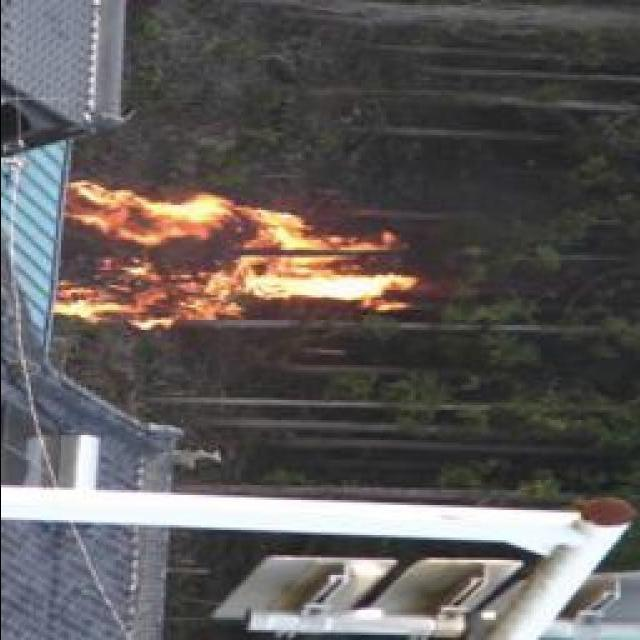Fire: (52, 184, 404, 332)
